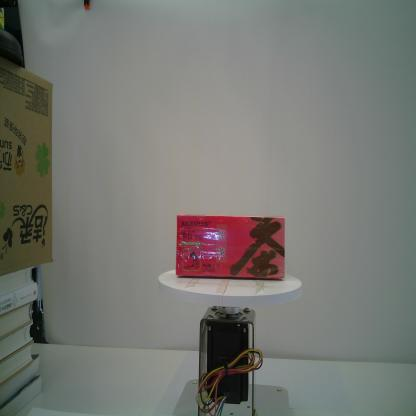Instant Drink: (175, 213, 286, 280)
